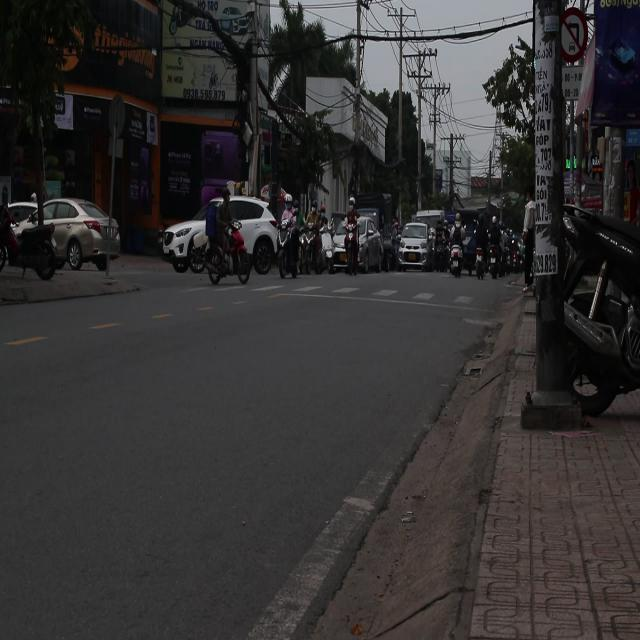car: (7, 196, 123, 272), (397, 223, 433, 273)
motorbike: (551, 194, 640, 422), (200, 189, 256, 290), (297, 214, 330, 278), (276, 216, 301, 280), (449, 242, 465, 278), (476, 242, 484, 287)
truck: (348, 192, 396, 264)
